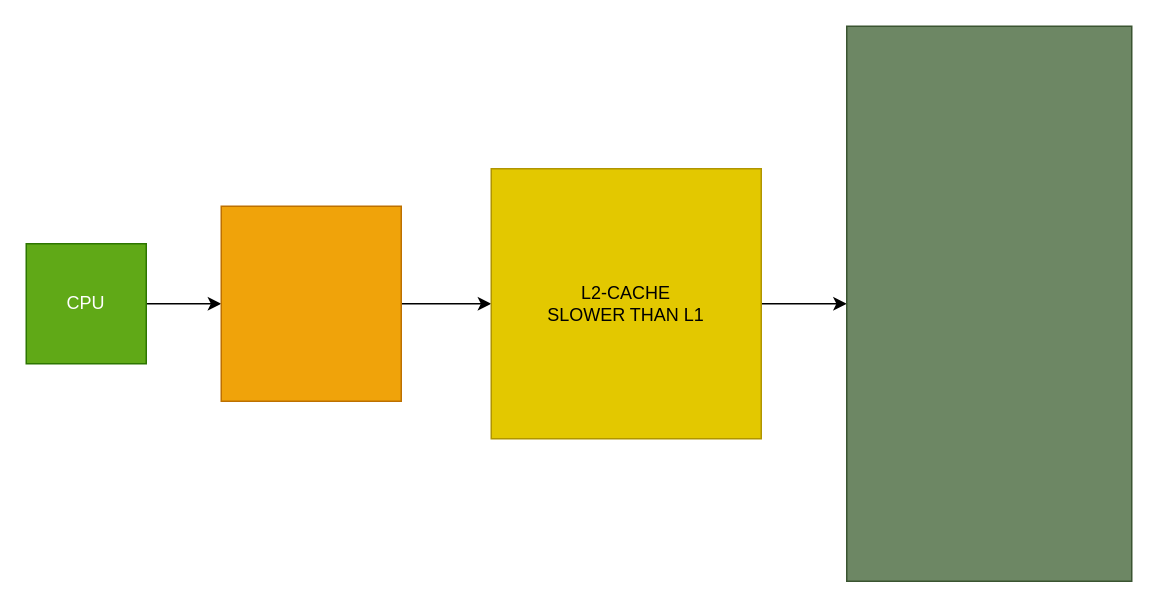
Some shapes in this 1158 by 608 pixel diagram are drawn without their labels. The shapes that lost their labels are listed below. From the top down, each one's centre as x and y in pixels, then its label:
At (310,303): "L1-CACHE".
At (988,303): "MAIN MEMORY".
